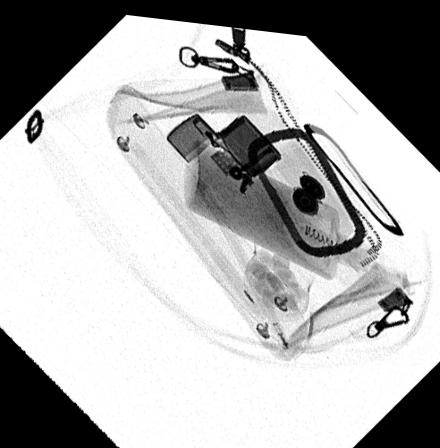Lighter: (164, 108, 282, 176)
